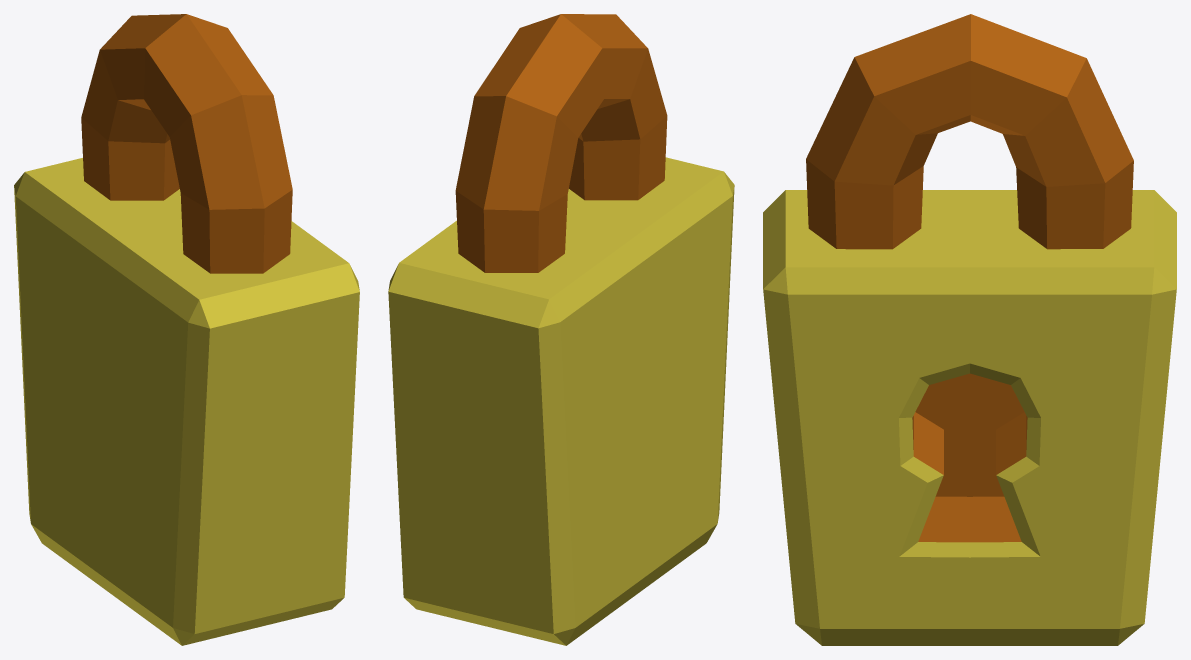
Rendered from lock.fbx.
3 renders of one model, left to right at view 1: azimuth 30°, elevation 25°; view 2: azimuth 150°, elevation 25°; view 3: azimuth 270°, elevation 25°, orthographic. The views are drawn at different scales.
Visible parts, largest first — view 1: lock; view 2: lock; view 3: lock.
Part boxes in pixels (bbox=[...]): lock: bbox=[14, 14, 359, 645]; lock: bbox=[388, 14, 734, 645]; lock: bbox=[763, 14, 1176, 645].
Bounding box in the file's own units: 19.83 × 62.66 × 39.59.
